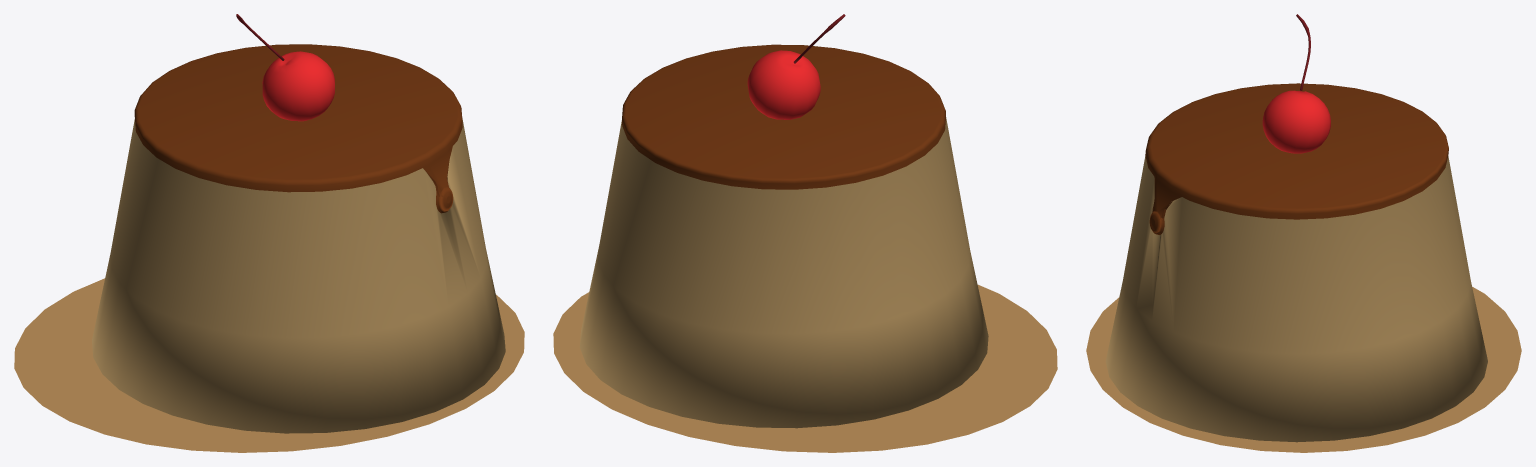
Rendered from pudding.glb.
3 views of the same model, side by side, from view 1: azimuth 30°, elevation 25°; view 2: azimuth 150°, elevation 25°; view 3: azimuth 270°, elevation 25° (orthographic). The views are drawn at different scales.
Parts seen in each view (by area): view 1: 円; view 2: 円; view 3: 円.
Part boxes in pixels (<box>): 円: <box>14,14,524,452</box>; 円: <box>553,14,1057,452</box>; 円: <box>1086,14,1521,452</box>.
Bounding box in the file's own units: 3.29 × 2.4 × 2.96.
